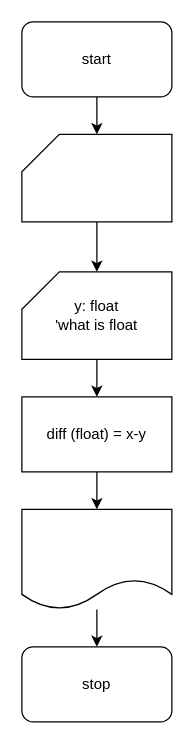
The diagram is 194 pixels wide and 744 high, and some of its shapes have lost their labels. Each missing label, with the box of its shape:
print(diff): (21, 508, 172, 609)
x: fioat 'what is x': (21, 133, 172, 222)
